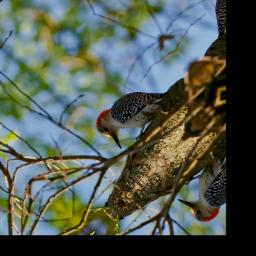Woodpecker: (79, 59, 184, 161)
